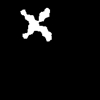single_crochet: (21, 8, 50, 40)
